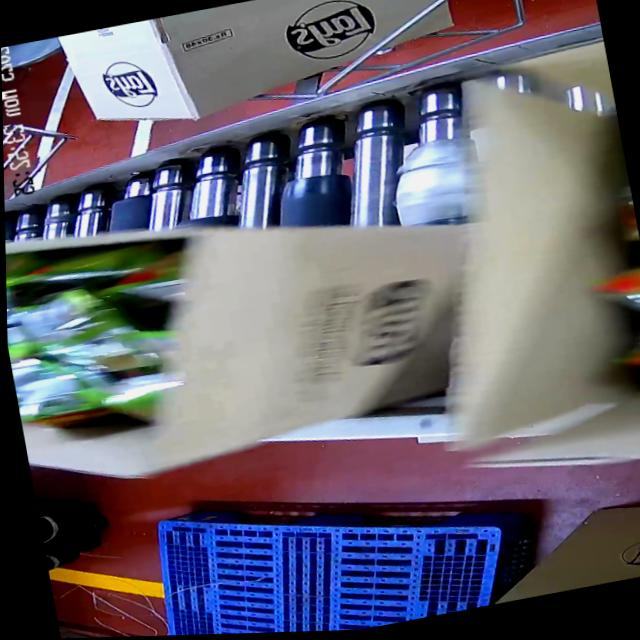YOGURT_HERB: (6, 251, 182, 436), (584, 133, 640, 408)
